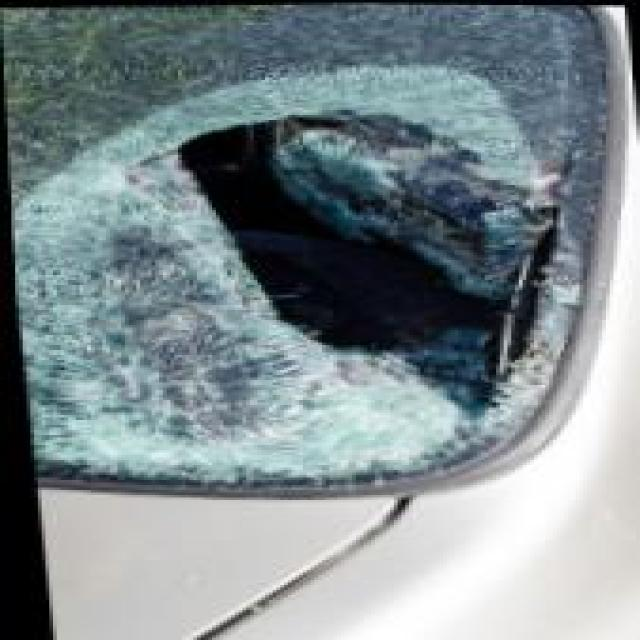Windshield: (0, 0, 640, 537)
